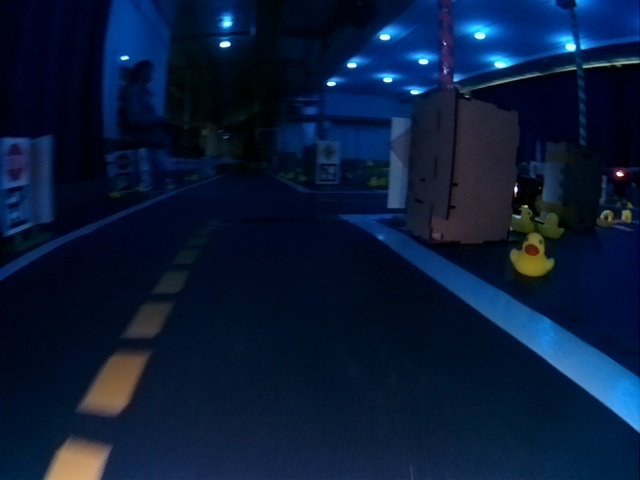Duckie: (511, 233, 553, 276), (511, 208, 535, 232), (542, 214, 564, 236), (600, 212, 613, 222), (622, 209, 630, 222)
Intersection sign: (322, 144, 336, 162)
QR code: (3, 187, 29, 229), (318, 164, 337, 183)
Stop sign: (0, 139, 30, 184)
